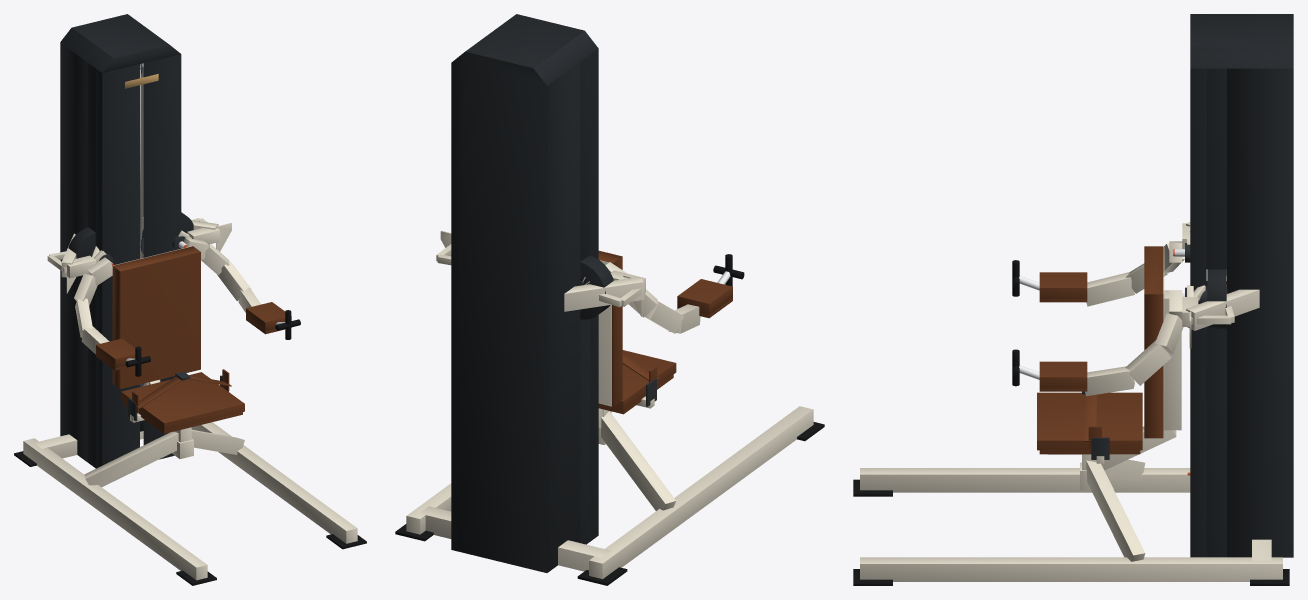
3 views of the same model, side by side, from view 1: azimuth 30°, elevation 25°; view 2: azimuth 150°, elevation 25°; view 3: azimuth 270°, elevation 25° (orthographic). The views are drawn at different scales.
Visible parts, largest first — view 1: leather, shroud.001, shroud.014, shroud.002, cframe, leather__adj.001, cframe.001, shroud.013, shroud.004, cframe.003, shroud.016, shroud.015 (+12 smaller); view 2: shroud, shroud.014, cframe, shroud.013, shroud.004, cframe.003, shroud.015, shroud.016, cframe.002, leather__adj.001, cframe.021, shroud.005 (+6 smaller); view 3: shroud.018, cframe.001, shroud.017, cframe, leather__adj.001, shroud.019, shroud.020, shroud.004, leather, shroud.006, cframe.004, cframe.008 (+10 smaller).
Boxes of the visible parts, box(x1,y1,x2,y2) form: leather: box(112, 246, 200, 388); shroud.001: box(102, 64, 139, 464); shroud.014: box(60, 42, 87, 461); shroud.002: box(143, 54, 180, 459); cframe: box(23, 438, 207, 580); leather__adj.001: box(121, 372, 244, 431); cframe.001: box(191, 422, 357, 543); shroud.013: box(95, 68, 102, 468); shroud.004: box(72, 14, 169, 58); cframe.003: box(84, 431, 178, 487); shroud.016: box(87, 62, 95, 232); shroud.015: box(87, 291, 95, 467); shroud: box(451, 51, 546, 572); shroud.014: box(547, 62, 580, 572); cframe: box(589, 406, 813, 579); shroud.013: box(590, 48, 598, 541); shroud.004: box(465, 14, 584, 68); cframe.003: box(601, 411, 675, 510); shroud.015: box(580, 319, 590, 544); shroud.016: box(580, 55, 590, 261); cframe.002: box(419, 506, 610, 571); leather__adj.001: box(598, 350, 676, 410); cframe.021: box(564, 276, 644, 311); shroud.005: box(533, 31, 598, 85); shroud.018: box(1227, 68, 1293, 557); cframe.001: box(860, 557, 1282, 581); shroud.017: box(1190, 68, 1206, 557); cframe: box(860, 468, 1190, 492); leather__adj.001: box(1037, 392, 1142, 450); shroud.019: box(1206, 328, 1226, 557); shroud.020: box(1206, 68, 1226, 269); shroud.004: box(1190, 14, 1293, 47); leather: box(1144, 246, 1163, 438); shroud.006: box(1190, 47, 1293, 68); cframe.004: box(1086, 460, 1145, 561); cframe.008: box(1163, 290, 1181, 430).
Size of the model in its own units: 0.95 by 2.1 by 1.67.
